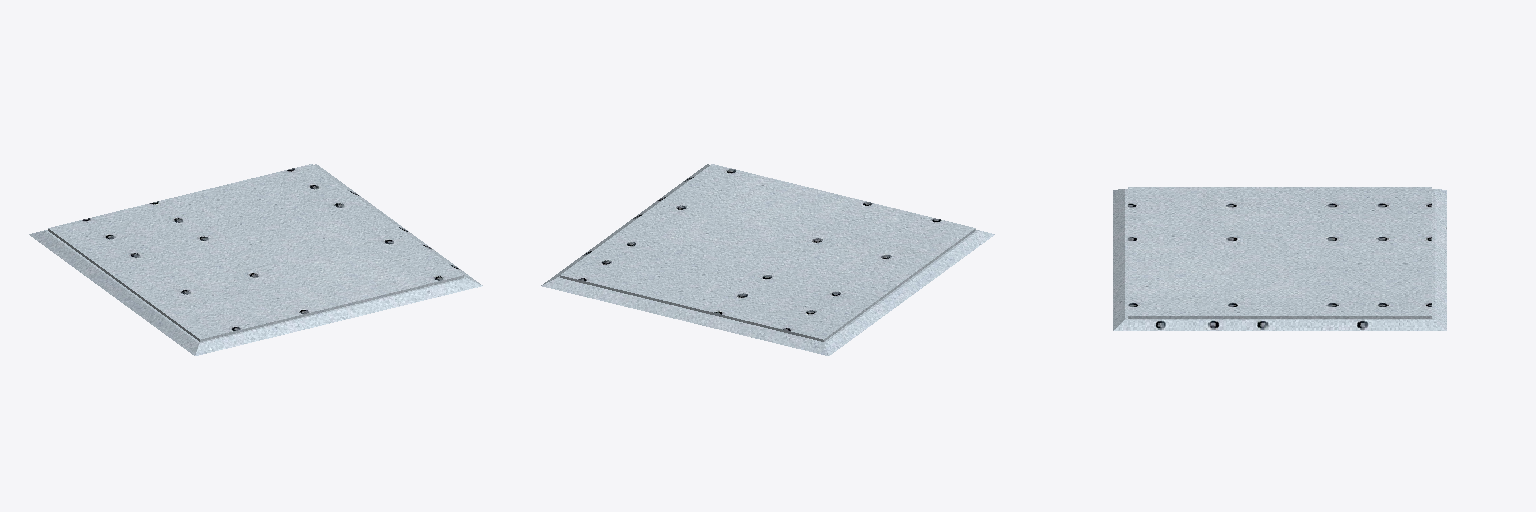
3 views of the same model, side by side, from view 1: azimuth 30°, elevation 25°; view 2: azimuth 150°, elevation 25°; view 3: azimuth 270°, elevation 25° (orthographic).
Visible parts, largest first — view 1: floor; view 2: floor; view 3: floor.
Part boxes in pixels (x1,y1,x2,y2): floor: (29,164,482,355); floor: (541,164,994,355); floor: (1113,187,1446,330).
Size of the model in its own units: 1 by 0.0285 by 1.
Materials: 1 (1 with a texture image).